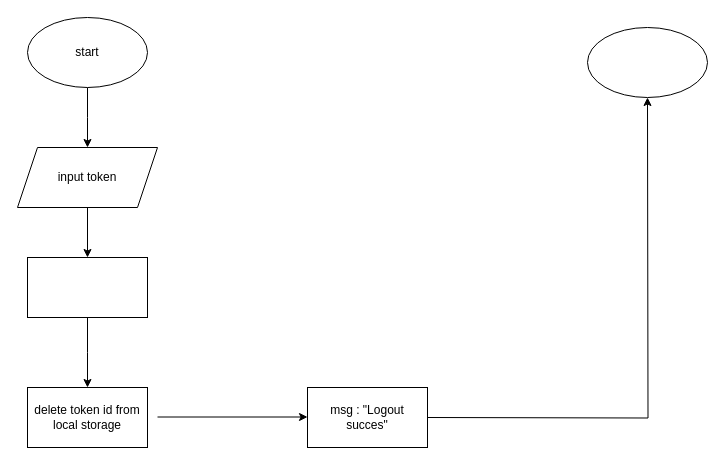
Image size: 725x465. Some labels were removed from this diagram. Here are the shapes that lost their labels. From the top down, the centre of each, then its label:
At (x=647, y=62): "finish".
At (x=87, y=287): "get id from token".
